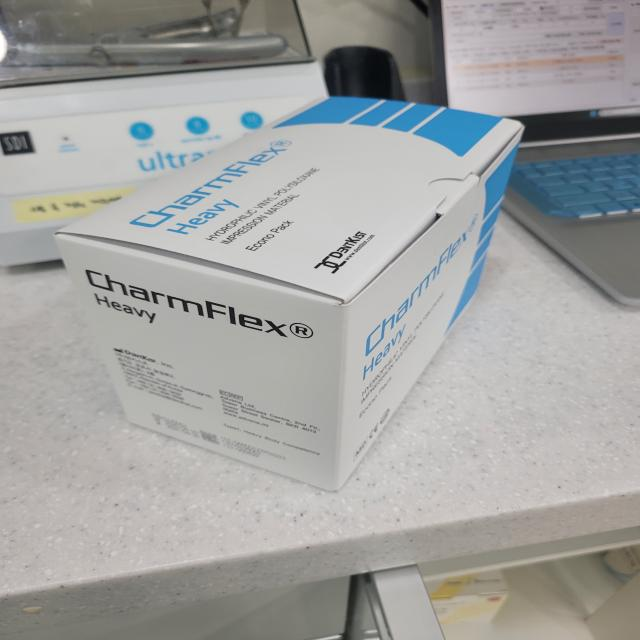impression: (50, 84, 535, 492)
